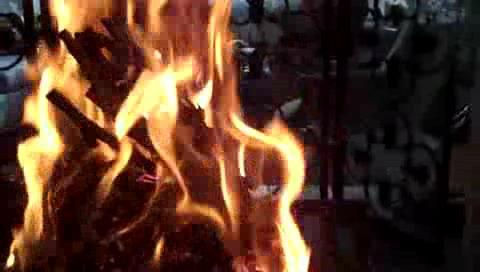fire: (27, 4, 308, 264)
